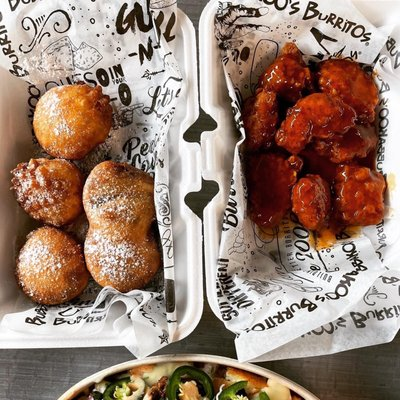salad: (82, 161, 161, 292), (32, 83, 113, 161), (15, 227, 90, 305), (10, 158, 85, 227)
sandwich: (58, 357, 321, 400)
